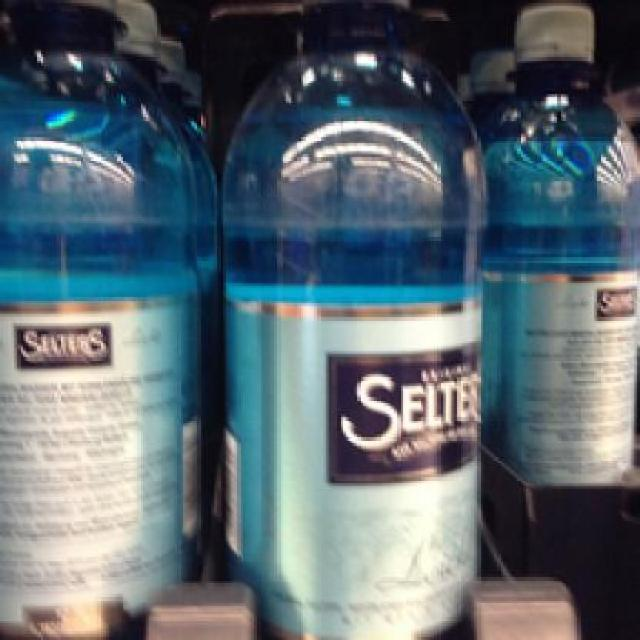Water: (217, 0, 492, 637), (0, 0, 203, 637), (482, 0, 638, 483)
